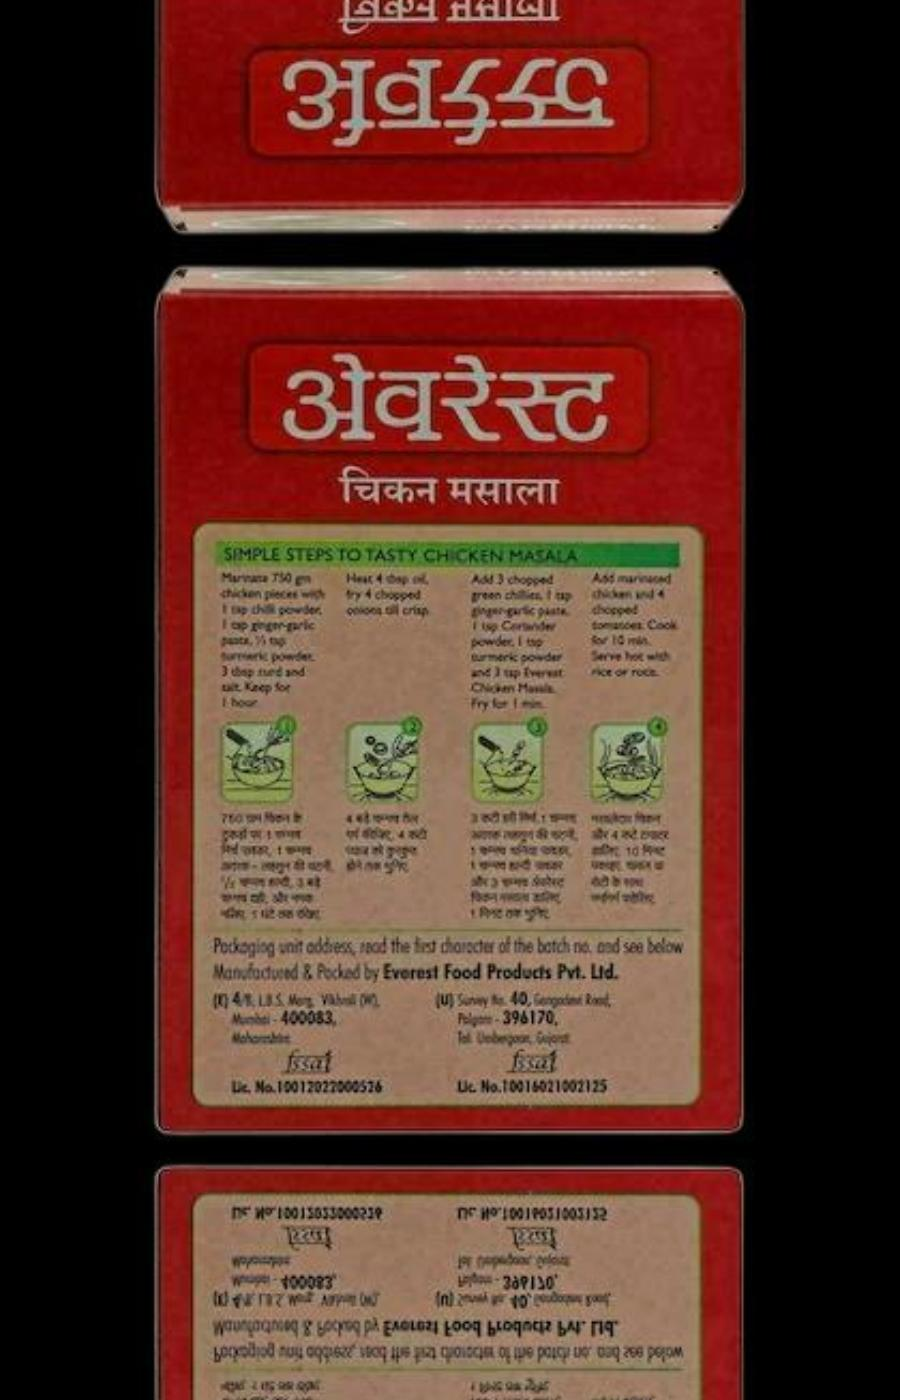Everest Chicken Masala 50 g: (147, 269, 743, 1137), (147, 1163, 743, 1400), (147, 0, 743, 231)
